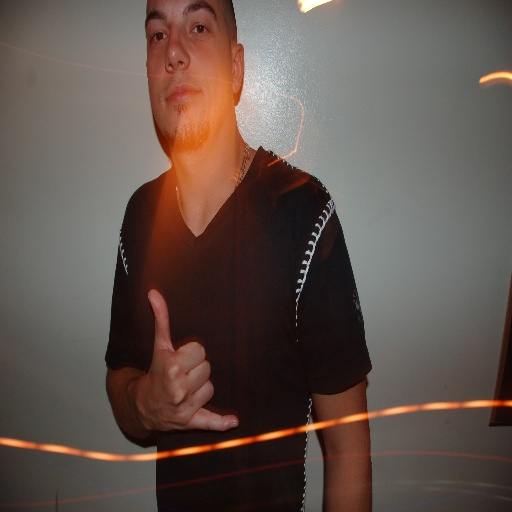hand: (112, 298, 235, 447)
